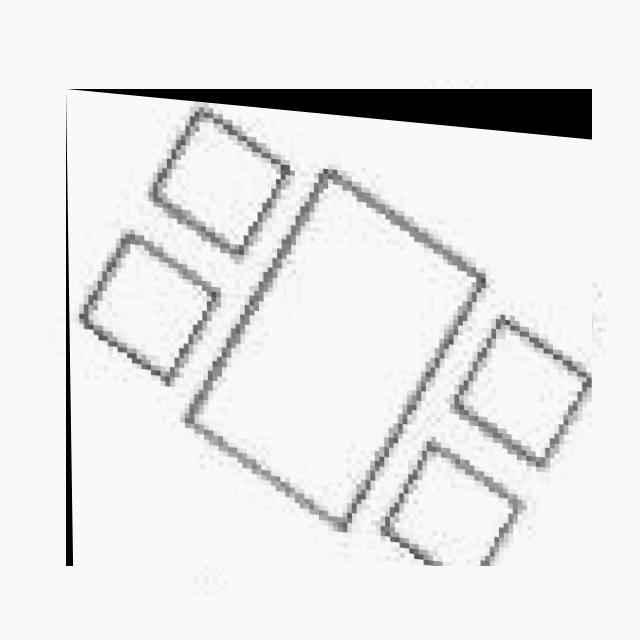table: (67, 89, 592, 566)
